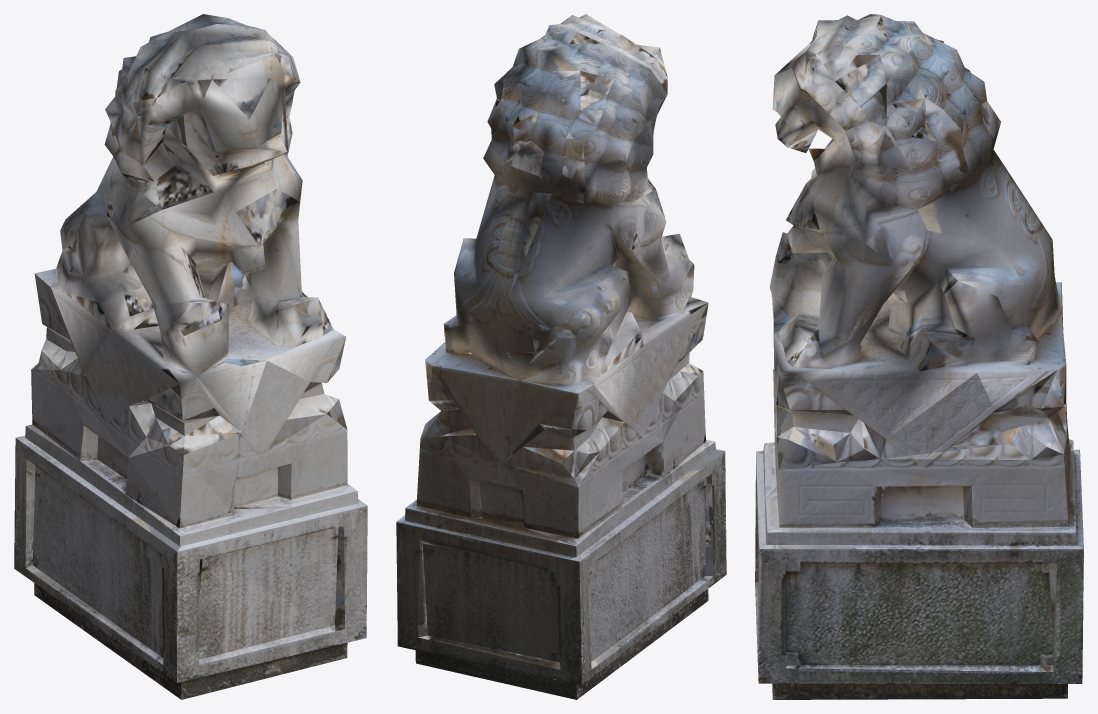
Rendered from SHIZILOW.fbx.
3 renders of one model, left to right at view 1: azimuth 30°, elevation 25°; view 2: azimuth 150°, elevation 25°; view 3: azimuth 270°, elevation 25°, orthographic. The views are drawn at different scales.
Parts seen in each view (by area): view 1: Lion; view 2: Lion; view 3: Lion.
Part boxes in pixels (x1=…): Lion: x1=14, y1=14, x2=367, y2=699; Lion: x1=396, y1=14, x2=726, y2=699; Lion: x1=755, y1=14, x2=1083, y2=699.
Bounding box in the file's own units: 922 × 2752 × 1296.
1 material, 1 textured.
